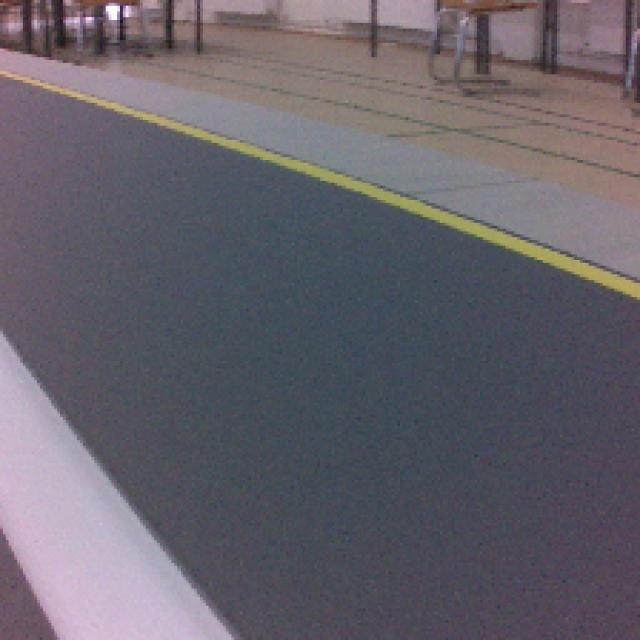Pedestrian crosswalk: (0, 331, 231, 640)
